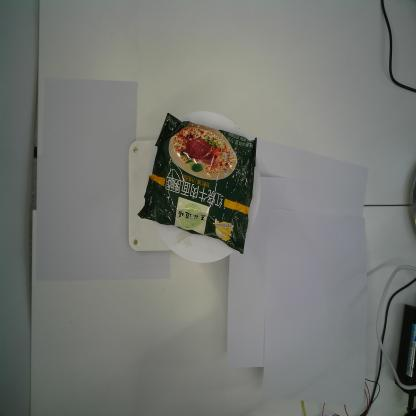Instant Noodles: (136, 111, 258, 256)
